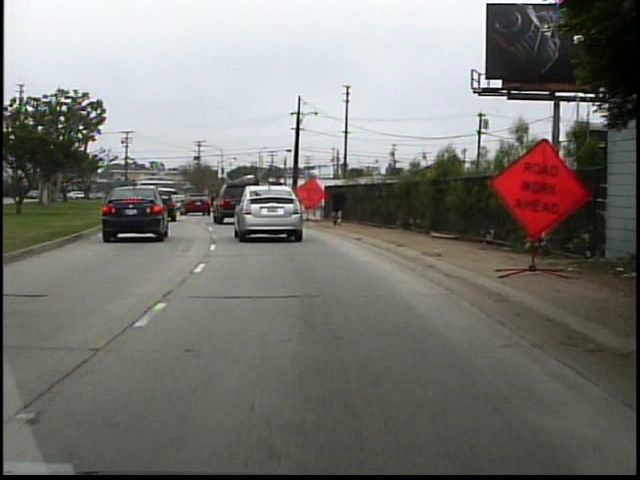person: (325, 181, 348, 228)
